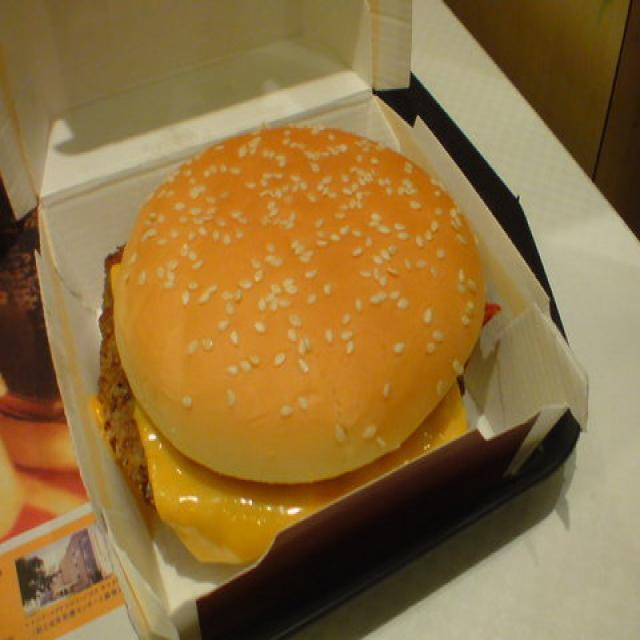Hamburger: (84, 122, 472, 524)
